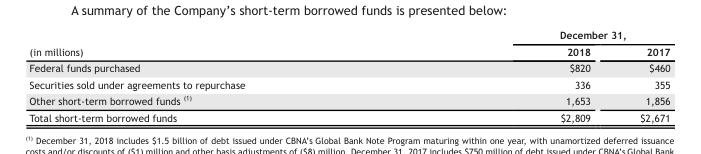table: (28, 28, 669, 122)
table column: (28, 28, 401, 122), (401, 28, 614, 122), (614, 28, 669, 122)
table column header: (28, 28, 669, 59)
table row: (28, 91, 669, 108), (28, 43, 669, 59), (28, 59, 669, 75), (28, 75, 669, 91), (28, 28, 669, 43), (28, 108, 669, 122)
table spanning cell: (28, 28, 401, 59), (401, 28, 669, 43)
